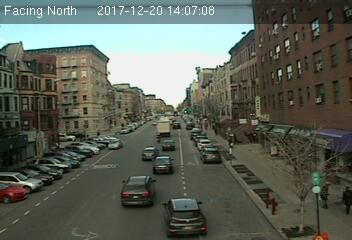car: (161, 197, 208, 235), (121, 175, 156, 208), (151, 155, 175, 173), (201, 147, 221, 164), (142, 147, 160, 161), (160, 139, 176, 151), (107, 138, 123, 150), (172, 121, 181, 128)
truck: (154, 120, 172, 139)
